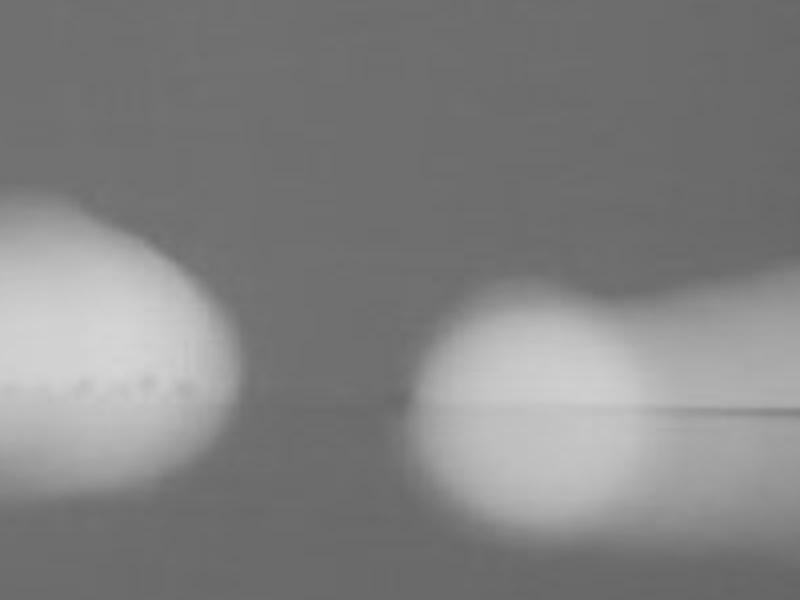defect: (133, 372, 160, 395), (175, 379, 195, 399)
